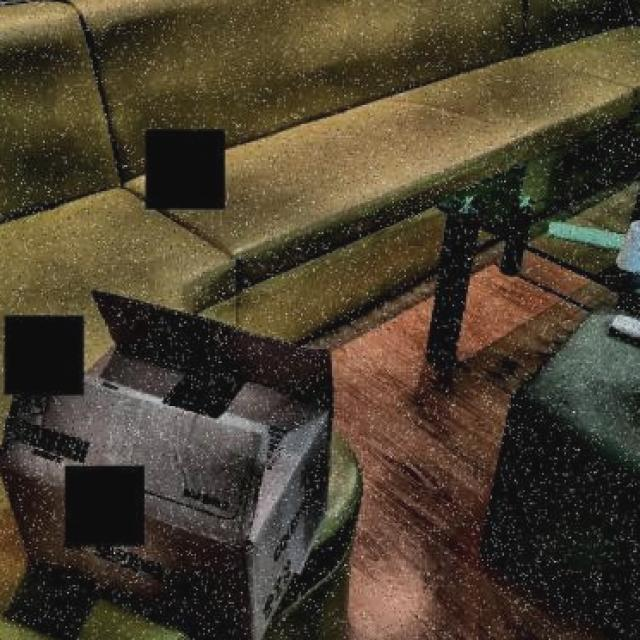box: (0, 282, 344, 640)
